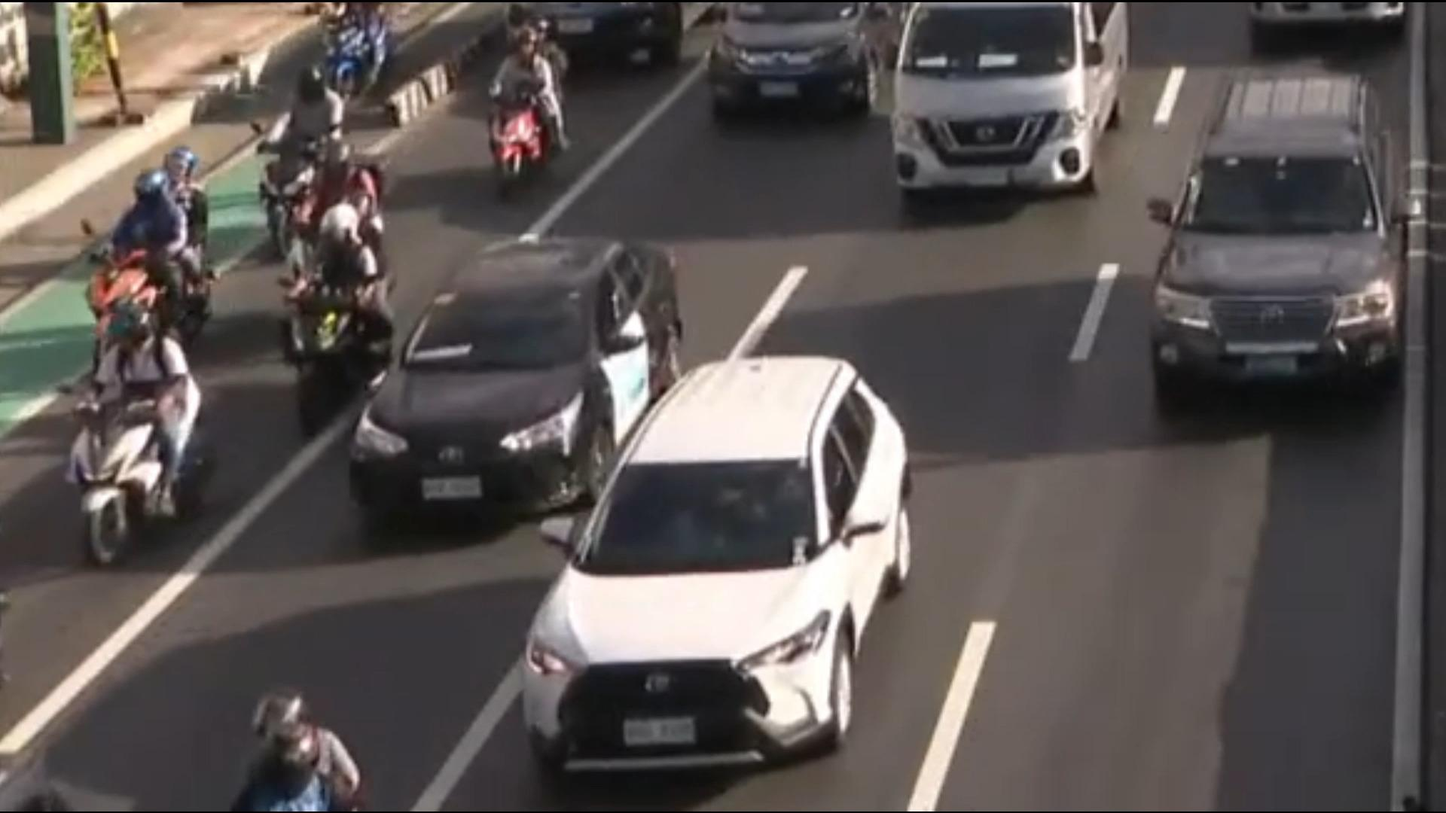Motorcycle: (37, 290, 251, 589), (22, 136, 234, 372), (260, 155, 411, 435), (469, 4, 580, 212), (253, 87, 372, 244), (310, 4, 388, 136)
SUV: (480, 339, 949, 806), (1106, 44, 1420, 482)
Sedan: (340, 194, 699, 566)
Van: (882, 0, 1150, 209)
